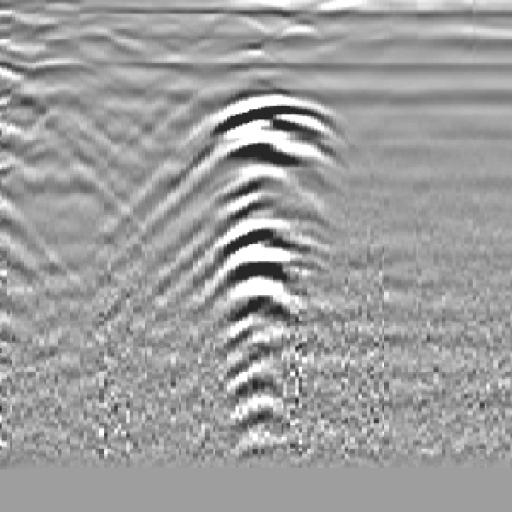metalic: (198, 80, 330, 449)
